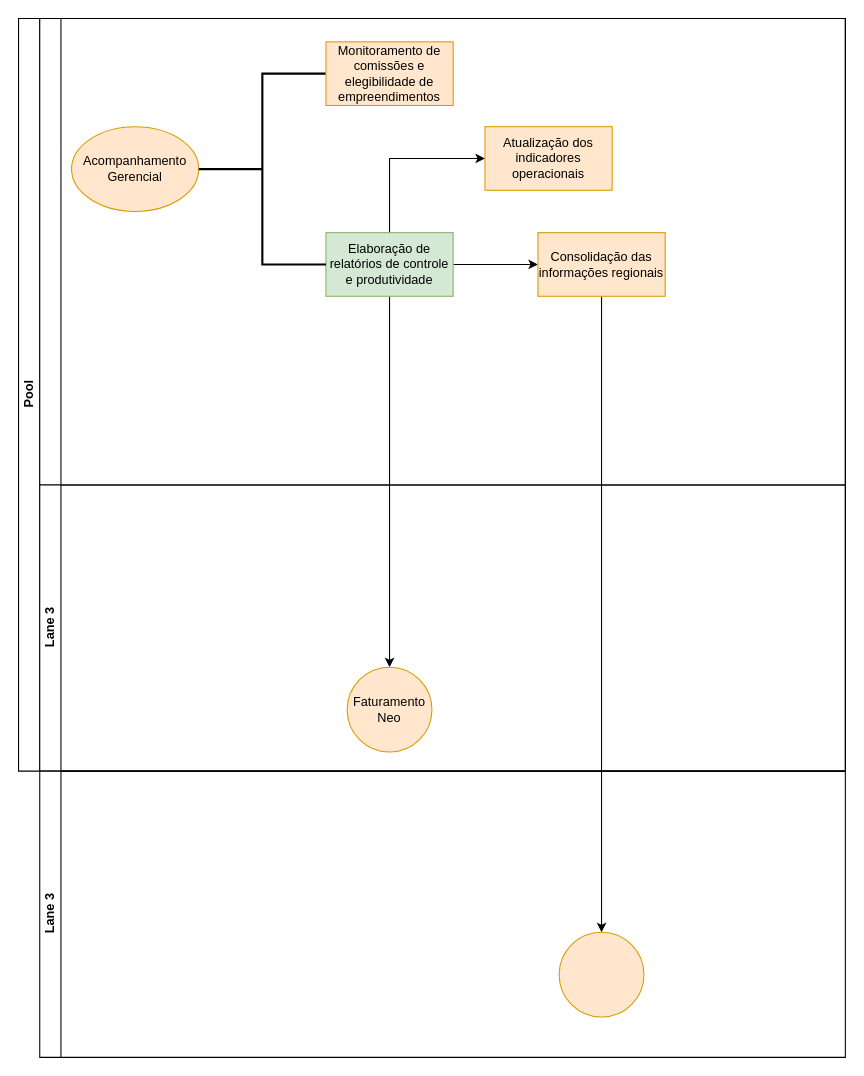
Some shapes in this 864 by 1076 pixel diagram are drawn without their labels. The shapes that lost their labels are listed below. From the top down, each one's centre as x and y in pixels, then its label:
the point at 442,251: Lane 2
the point at 601,974: Diretoria
